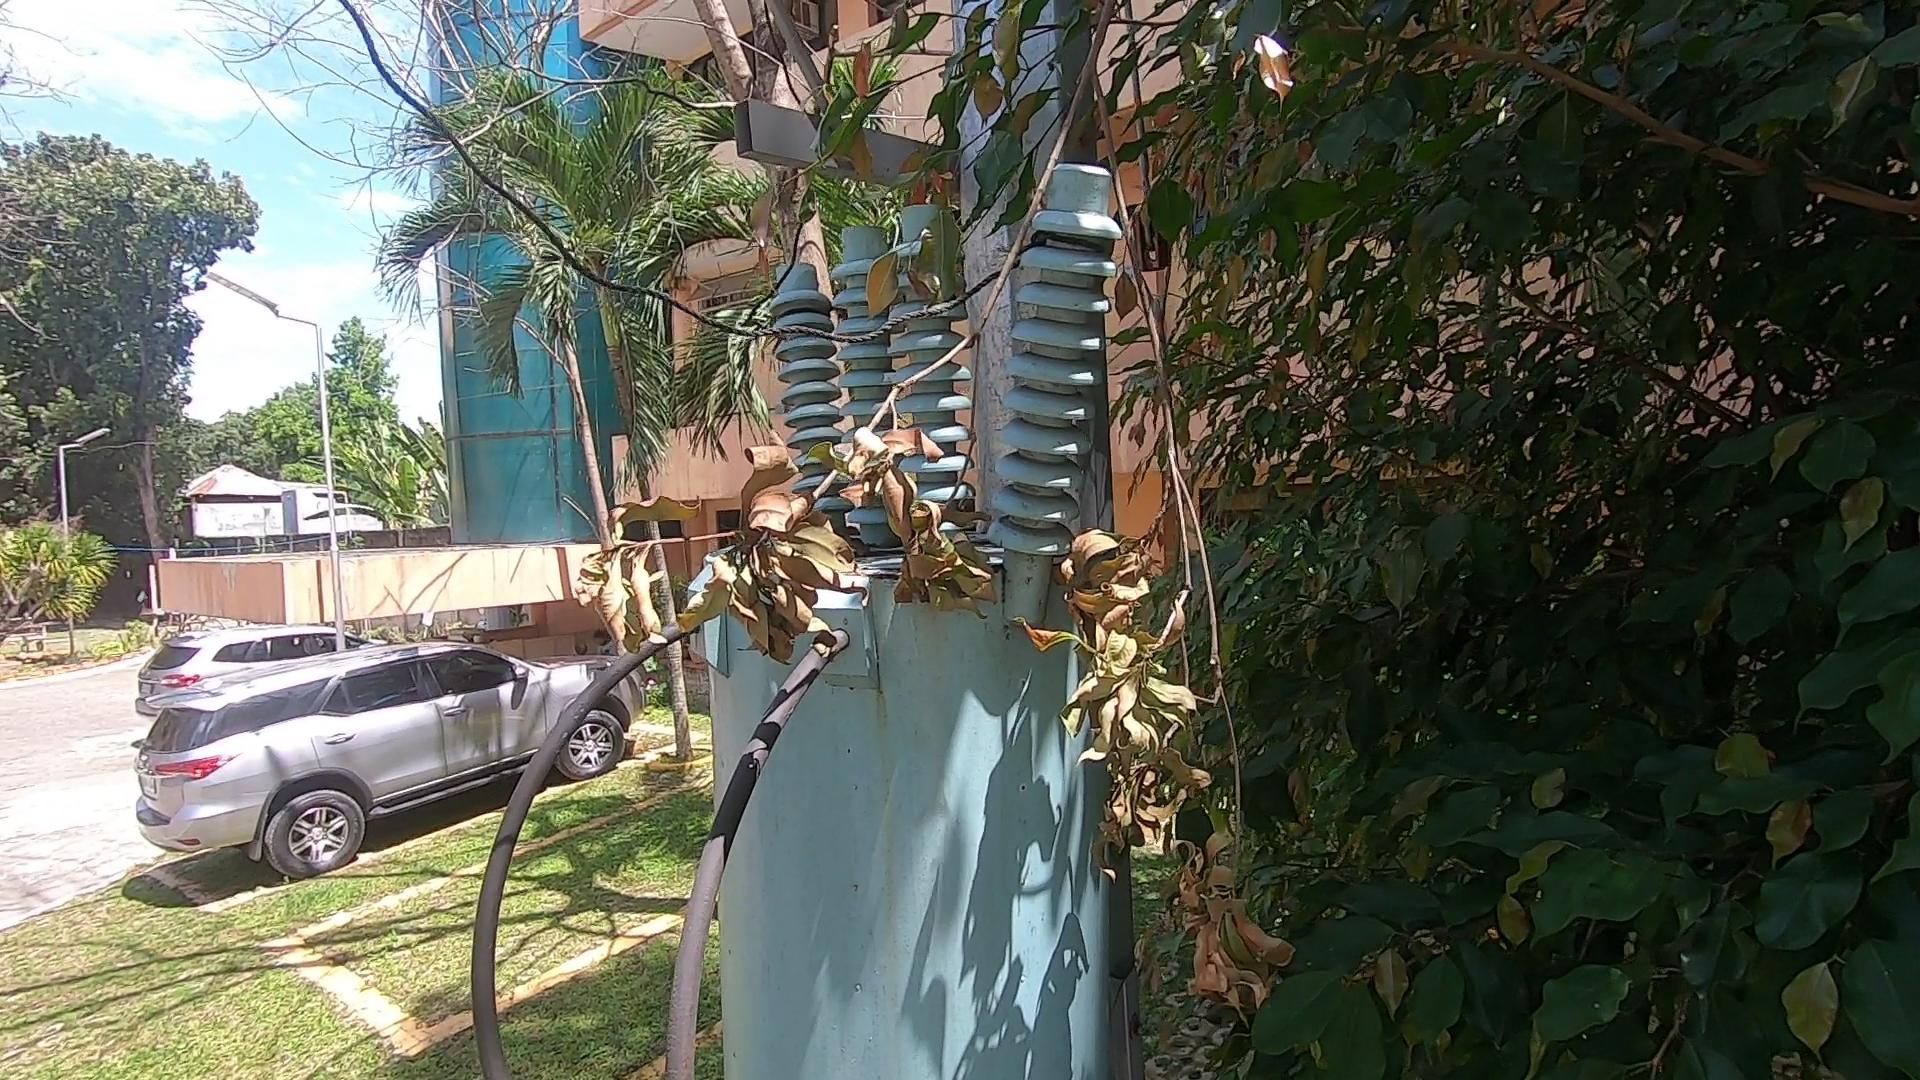branch with leaves: (542, 1, 1316, 1029)
leaf: (843, 535, 881, 555)
